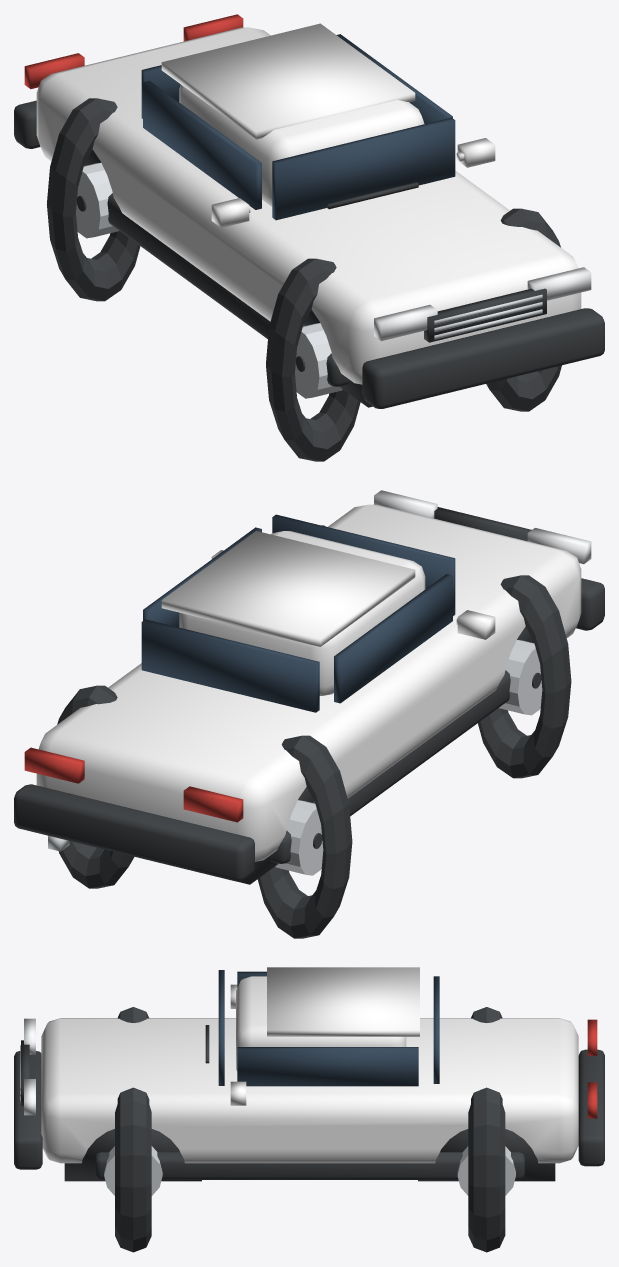
Rendered from sedan.glb.
The picture shows the model from 3 angles, top to bottom: view 1: azimuth 30°, elevation 25°; view 2: azimuth 150°, elevation 25°; view 3: azimuth 270°, elevation 25°; orthographic projection. The views are drawn at different scales.
Parts seen in each view (by area): view 1: sedan_body, sedan_roof, sedan_bf, sedan_wshld, sedan_w_tire.002, sedan_w_tire.003, sedan_cabin, sedan_sglass, sedan_skirt, sedan_w_tire, sedan_grille, sedan_w_rim.002 (+11 smaller); view 2: sedan_body, sedan_roof, sedan_br, sedan_rglass, sedan_w_tire.003, sedan_w_tire.002, sedan_sglass, sedan_cabin, sedan_skirt, sedan_w_tire.001, sedan_wshld, sedan_w_rim.003 (+9 smaller); view 3: sedan_body, sedan_roof, sedan_sglass.001, sedan_skirt, sedan_w_tire.001, sedan_w_tire, sedan_cabin, sedan_br, sedan_bf, sedan_fender, sedan_fender.001, sedan_wshld (+9 smaller).
Part boxes in pixels (x1,y1,x2,y2): sedan_body: (36, 27, 581, 384); sedan_roof: (161, 23, 415, 139); sedan_bf: (362, 308, 604, 408); sedan_wshld: (272, 117, 455, 220); sedan_w_tire.002: (266, 258, 360, 461); sedan_w_tire.003: (47, 98, 140, 301); sedan_cabin: (179, 84, 424, 206); sedan_sglass: (143, 80, 261, 209); sedan_skirt: (84, 165, 349, 386); sedan_w_tire: (486, 208, 561, 411); sedan_grille: (424, 288, 546, 342); sedan_w_rim.002: (295, 323, 342, 398); sedan_body: (36, 504, 581, 861); sedan_roof: (161, 531, 415, 646); sedan_br: (14, 784, 254, 881); sedan_rglass: (141, 619, 319, 712); sedan_w_tire.003: (257, 735, 352, 938); sedan_w_tire.002: (478, 575, 571, 778); sedan_sglass: (334, 574, 452, 703); sedan_cabin: (179, 531, 425, 695); sedan_skirt: (269, 642, 533, 863); sedan_w_tire.001: (57, 685, 134, 888); sedan_wshld: (272, 514, 455, 615); sedan_w_rim.003: (275, 800, 323, 875); sedan_body: (41, 1018, 578, 1163); sedan_roof: (267, 967, 419, 1036); sedan_sglass.001: (237, 1047, 418, 1086); sedan_skirt: (95, 1152, 524, 1179); sedan_w_tire.001: (468, 1087, 505, 1252); sedan_w_tire: (115, 1087, 151, 1252); sedan_cabin: (236, 976, 406, 1071); sedan_br: (578, 1049, 604, 1166); sedan_bf: (14, 1051, 42, 1169); sedan_fender: (64, 1129, 201, 1181); sedan_fender.001: (418, 1129, 555, 1181); sedan_wshld: (218, 970, 224, 1085).
Size of the model in its own units: 2.3 by 1.97 by 4.95.
